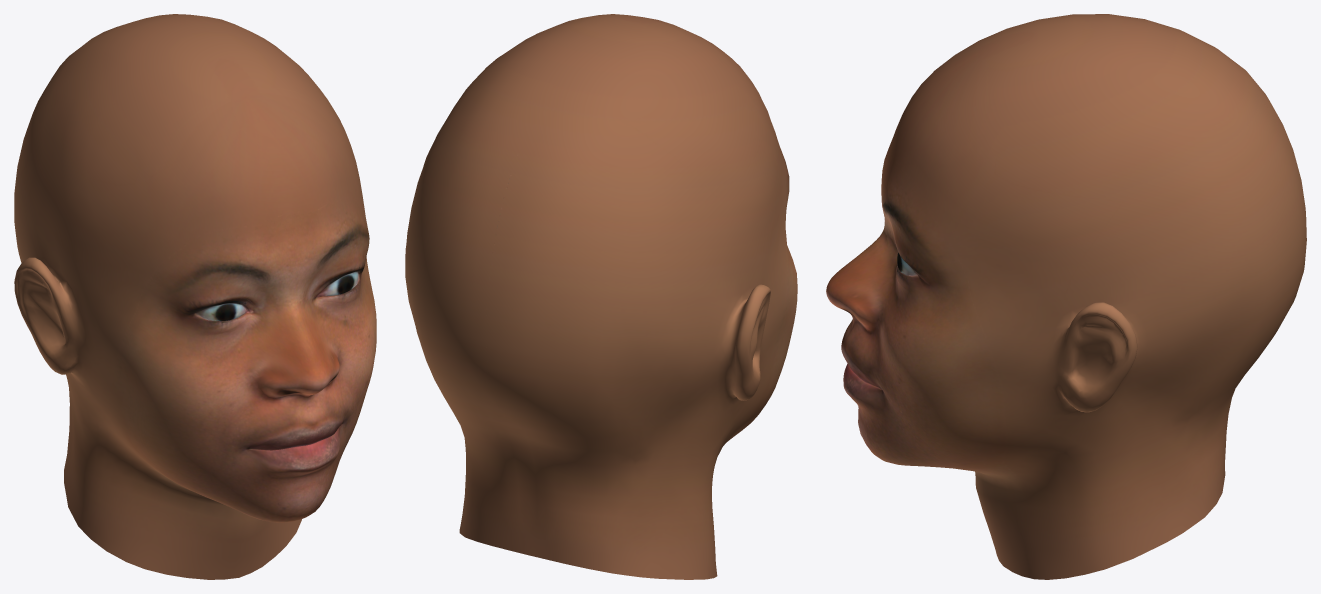
Rendered from v332_obj_ModifierLidTightener(AU07)Less.obj.
The picture shows the model from 3 angles, left to right: view 1: azimuth 30°, elevation 25°; view 2: azimuth 150°, elevation 25°; view 3: azimuth 270°, elevation 25°; orthographic projection. The views are drawn at different scales.
Visible parts, largest first — view 1: HeadHires; view 2: HeadHires; view 3: HeadHires.
Part boxes in pixels (left/top/right/bottom): HeadHires: left=14, top=14, right=376, bottom=579; HeadHires: left=405, top=14, right=797, bottom=579; HeadHires: left=826, top=14, right=1306, bottom=579.
Size of the model in its own units: 187 by 282 by 233.
